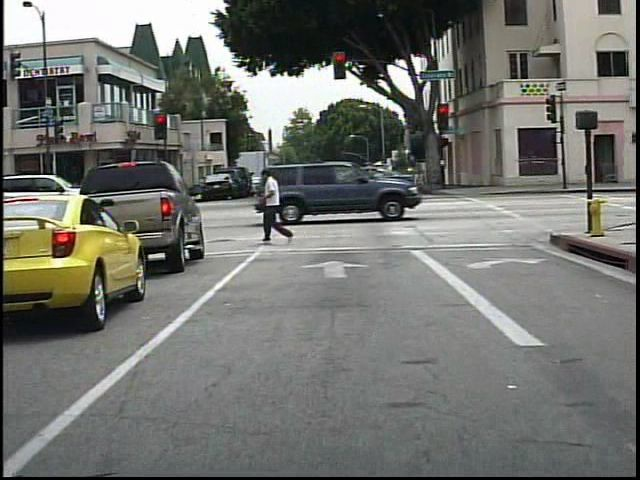person: (256, 165, 296, 246), (266, 165, 293, 208)
